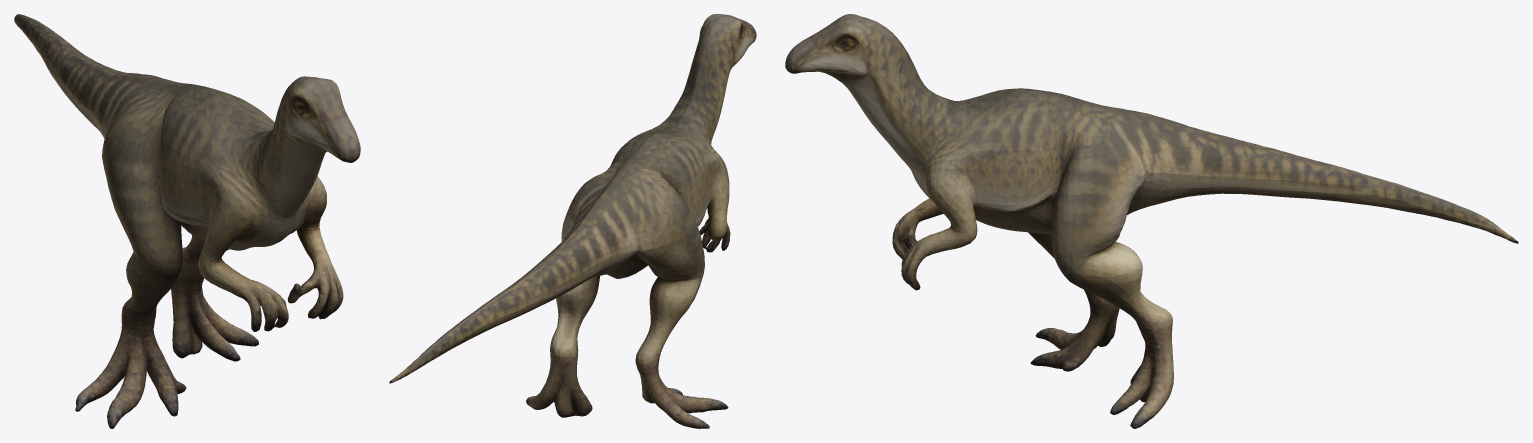
3 views of the same model, side by side, from view 1: azimuth 30°, elevation 25°; view 2: azimuth 150°, elevation 25°; view 3: azimuth 270°, elevation 25° (orthographic). The views are drawn at different scales.
Parts seen in each view (by area): view 1: world; view 2: world; view 3: world.
Part boxes in pixels (x1=…): world: x1=14, y1=14, x2=360, y2=428; world: x1=389, y1=14, x2=756, y2=428; world: x1=785, y1=14, x2=1518, y2=428.
Bounding box in the file's own units: 0.3008 × 0.5548 × 0.9987.
Materials: 1 (1 with a texture image).
